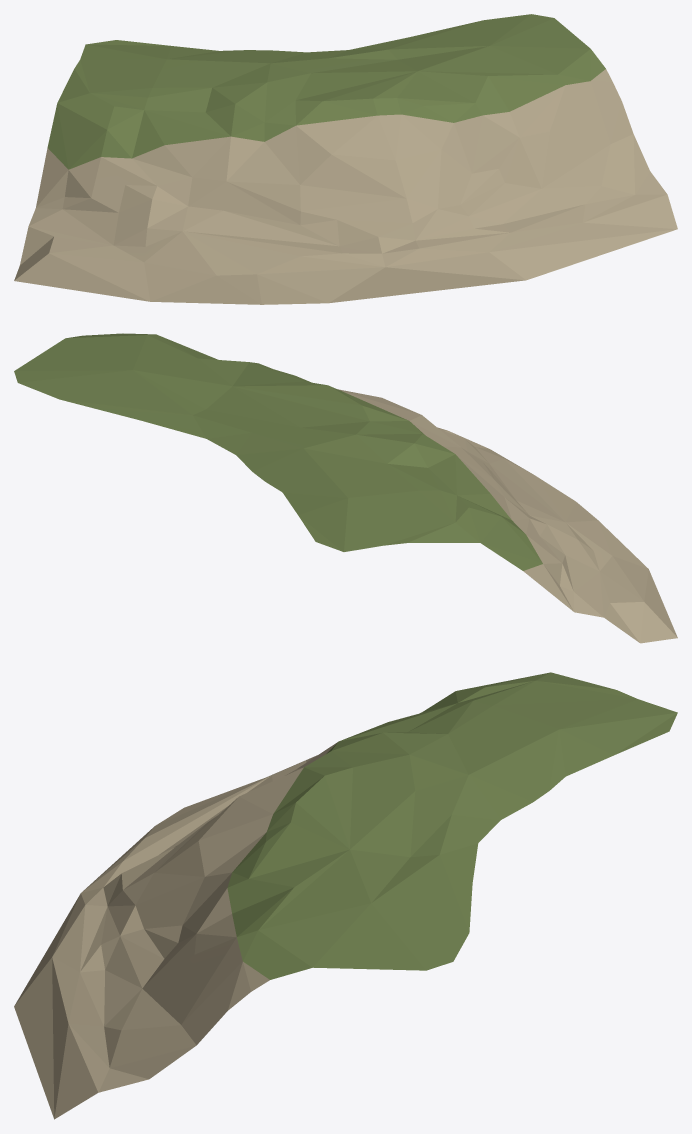
The model's file is SM_Terrain_RiverSide_Corner_02.glb.
3 renders of one model, top to bottom at view 1: azimuth 30°, elevation 25°; view 2: azimuth 150°, elevation 25°; view 3: azimuth 270°, elevation 25°, orthographic. The views are drawn at different scales.
Parts seen in each view (by area): view 1: SM_Terrain_RiverSide_Corner_02; view 2: SM_Terrain_RiverSide_Corner_02; view 3: SM_Terrain_RiverSide_Corner_02.
Part boxes in pixels (box(x1,y1,x2,y2)): SM_Terrain_RiverSide_Corner_02: box(14, 14, 677, 304); SM_Terrain_RiverSide_Corner_02: box(14, 333, 677, 643); SM_Terrain_RiverSide_Corner_02: box(14, 672, 677, 1119).
Bounding box in the file's own units: 9.18 × 1.93 × 6.74.
1 material, 1 textured.
